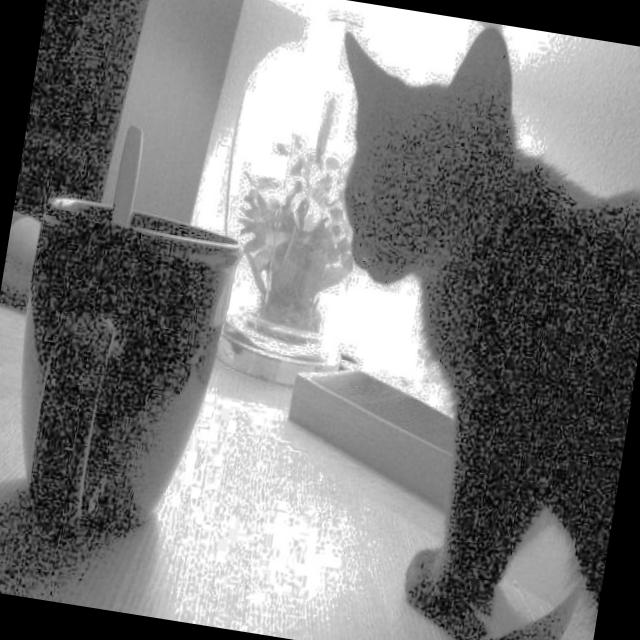Cat: (241, 23, 640, 640)
